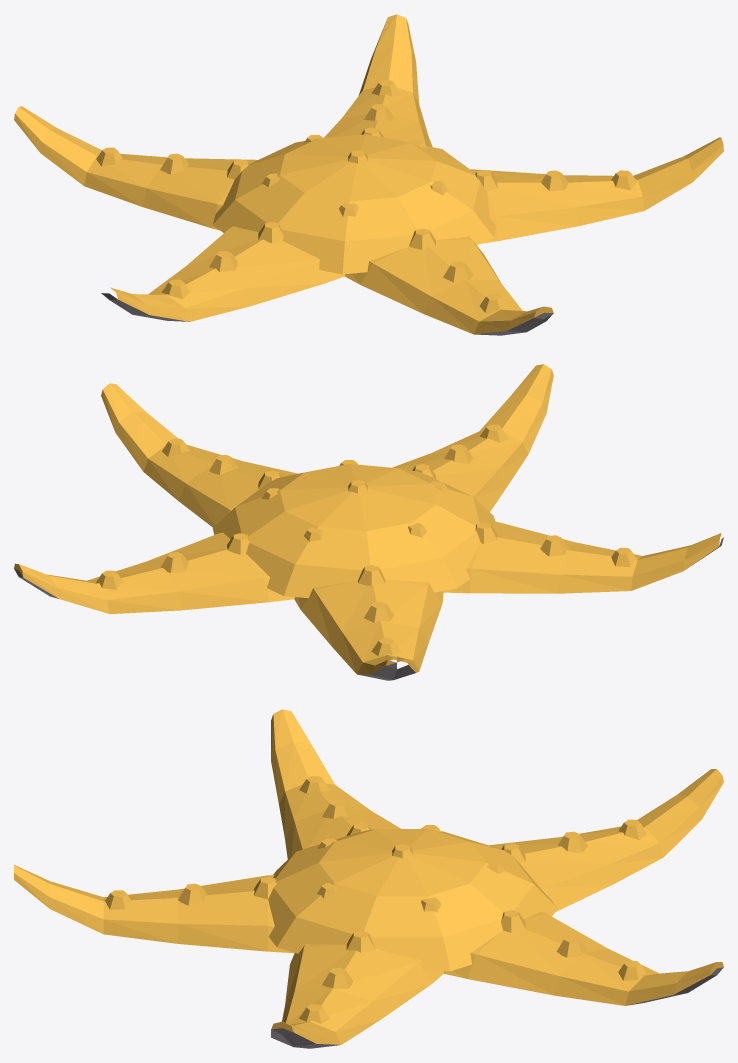
File: sea_star.glb
3 renders of one model, top to bottom at view 1: azimuth 30°, elevation 25°; view 2: azimuth 150°, elevation 25°; view 3: azimuth 270°, elevation 25°, orthographic. The views are drawn at different scales.
Parts seen in each view (by area): view 1: SeaStar; view 2: SeaStar; view 3: SeaStar.
Part boxes in pixels (box(x1,y1,x2,y2)): SeaStar: box(14, 14, 723, 335); SeaStar: box(14, 364, 723, 680); SeaStar: box(14, 709, 723, 1048).
Bounding box in the file's own units: 0.2497 × 0.0315 × 0.2375.
